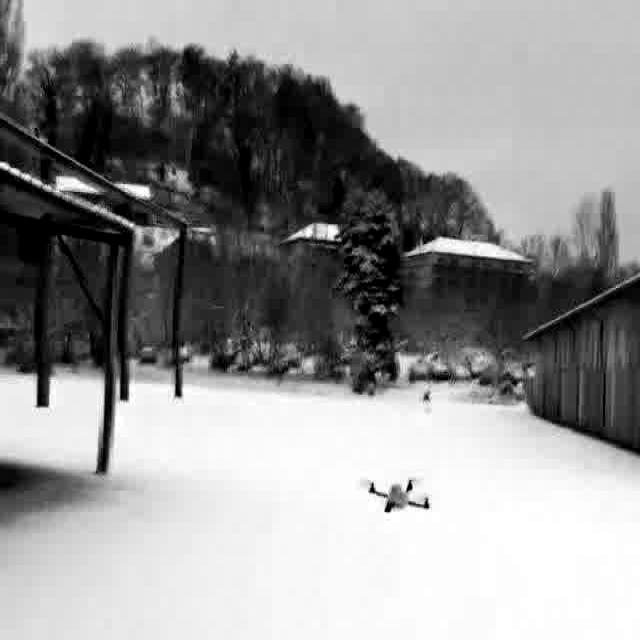drone: (349, 463, 452, 525)
